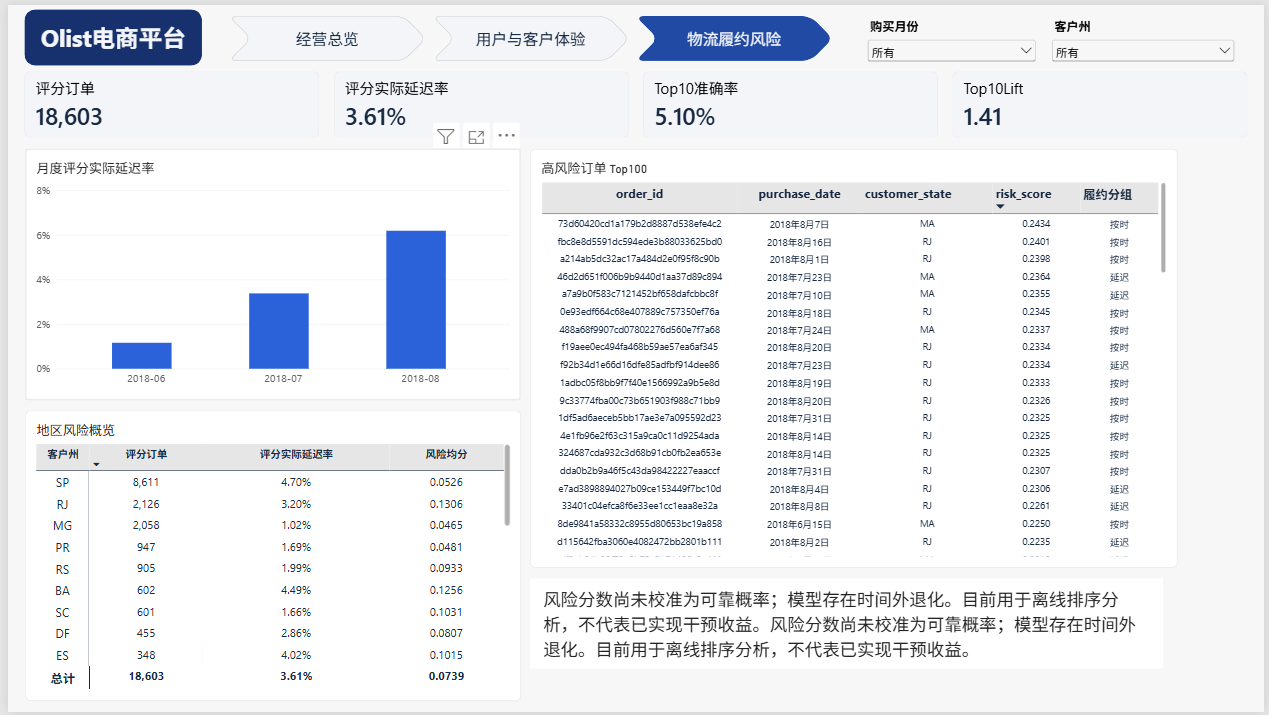

Layout of this report page (visuals, bound fields, positions):
{"tool":"powerbi","page":{"name":"物流履约风险","canvas":[1920,1080],"ordinal":2},"visuals":[{"type":"actionButton","box":[25.3,6.8,271.9,86.1],"z":0},{"type":"pageNavigator","box":[336,16,926,70],"z":1000},{"type":"slicer","fields":{"Values":["FactOrders.customer_state"]},"box":[1592.3,18.6,288.8,82.8],"z":2000},{"type":"slicer","fields":{"Values":["DimDate.YearMonth"]},"box":[1310.3,18.6,266.8,82.8],"z":3000},{"type":"cardVisual","fields":{"Data":["FactOrders.评分订单","FactOrders.评分实际延迟率","FactOrders.Top10准确率","FactOrders.Top10Lift"]},"box":[25.3,101.3,1871.3,101.3],"z":4000},{"type":"clusteredColumnChart","title":"月度评分实际延迟率","fields":{"Category":["DimDate.YearMonth"],"Y":["FactOrders.评分实际延迟率"]},"box":[26,220,758,384],"z":5000},{"type":"pivotTable","title":"地区风险概览","fields":{"Rows":["FactOrders.customer_state"],"Values":["FactOrders.评分订单","FactOrders.评分实际延迟率","FactOrders.风险均分"]},"box":[26,620,758,444],"z":6000},{"type":"tableEx","title":"高风险订单 Top100","fields":{"Values":["FactOrders.order_id","FactOrders.purchase_date","FactOrders.customer_state","FactOrders.risk_score","FactOrders.履约分组"]},"box":[798,220,990,640],"z":7000},{"type":"textbox","box":[798,876,968,138],"z":8000}]}

Visuals, with their boxes in screenshot pixels (x1, y1, x2, y2), scaled from the page's 1920x1080 canvas onto the 1269x715 screenshot:
actionButton: 17,5,196,62
pageNavigator: 222,11,834,57
slicer - FactOrders.customer_state: 1052,12,1243,67
slicer - DimDate.YearMonth: 866,12,1042,67
cardVisual - FactOrders.评分订单 x FactOrders.评分实际延迟率: 17,67,1254,134
"月度评分实际延迟率" clusteredColumnChart: 17,146,518,400
"地区风险概览" pivotTable: 17,410,518,704
"高风险订单 Top100" tableEx: 527,146,1182,569
textbox: 527,580,1167,671
